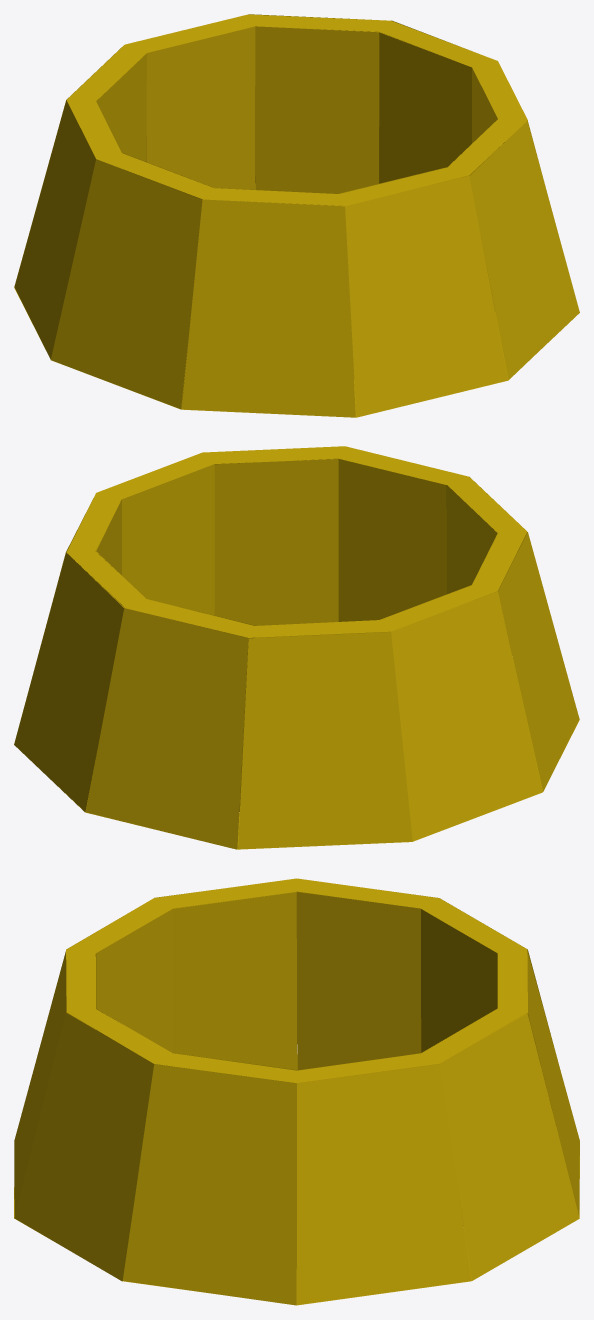
The model's file is original-3.obj.
3 renders of one model, top to bottom at view 1: azimuth 30°, elevation 25°; view 2: azimuth 150°, elevation 25°; view 3: azimuth 270°, elevation 25°, orthographic. The views are drawn at different scales.
Visible parts, largest first — view 1: #ID109; view 2: #ID109; view 3: #ID109.
Part boxes in pixels (box(x1,y1,x2,y2)): #ID109: box(14, 14, 579, 417); #ID109: box(14, 446, 579, 849); #ID109: box(14, 878, 579, 1305).
Size of the model in its own units: 0.1678 by 0.062 by 0.1597.
